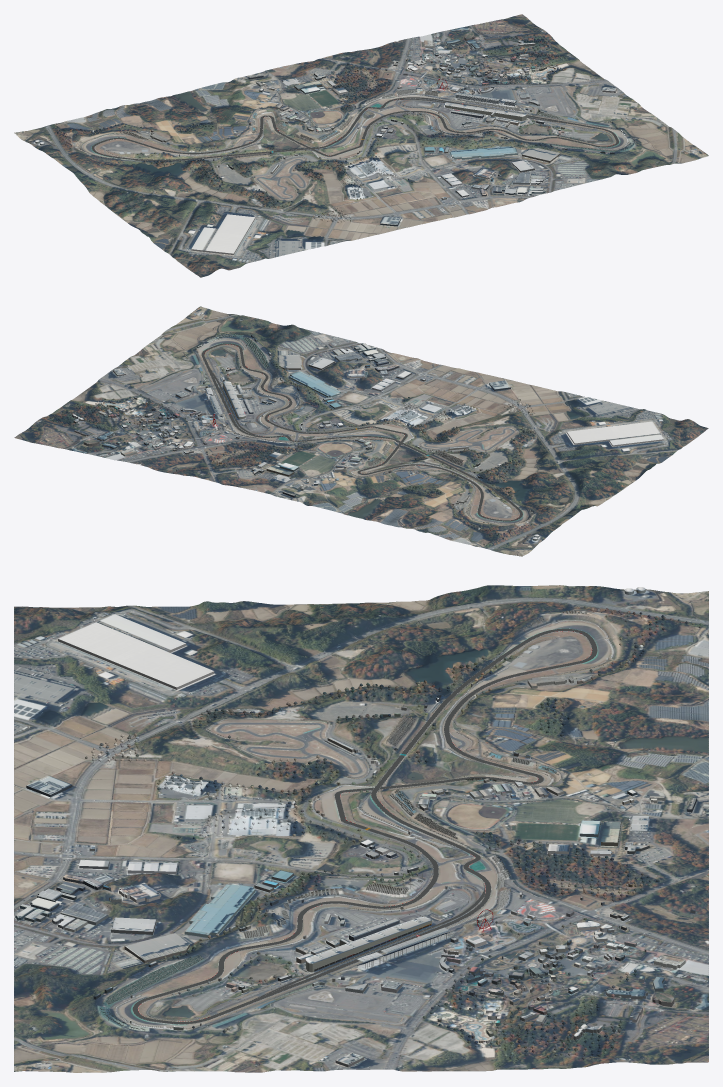
The model's file is suzuka.glb.
The picture shows the model from 3 angles, top to bottom: view 1: azimuth 30°, elevation 25°; view 2: azimuth 150°, elevation 25°; view 3: azimuth 270°, elevation 25°; orthographic projection. The views are drawn at different scales.
Parts seen in each view (by area): view 1: Suzuka_Terrain, Suzuka_Source_Roofs, Suzuka_Vegetation, Suzuka_Buildings, Suzuka_Raceway, Suzuka_Grandstands, Suzuka_Textured_Seat_Rows, Suzuka_Guardrails; view 2: Suzuka_Terrain, Suzuka_Source_Roofs, Suzuka_Vegetation, Suzuka_Buildings, Suzuka_Raceway, Suzuka_Textured_Seat_Rows, Suzuka_Grandstands; view 3: Suzuka_Terrain, Suzuka_Source_Roofs, Suzuka_Vegetation, Suzuka_Buildings, Suzuka_Raceway, Suzuka_Textured_Seat_Rows, Suzuka_Grandstands, Suzuka_Guardrails.
Boxes of the visible parts, x1,y1,x2,y2 form: Suzuka_Terrain: [14, 14, 708, 277]; Suzuka_Source_Roofs: [35, 33, 628, 253]; Suzuka_Vegetation: [53, 34, 625, 222]; Suzuka_Buildings: [35, 35, 628, 254]; Suzuka_Raceway: [91, 97, 619, 160]; Suzuka_Grandstands: [77, 89, 635, 158]; Suzuka_Textured_Seat_Rows: [79, 89, 635, 157]; Suzuka_Guardrails: [83, 89, 627, 200]; Suzuka_Terrain: [14, 306, 708, 556]; Suzuka_Source_Roofs: [72, 335, 663, 538]; Suzuka_Vegetation: [50, 343, 536, 545]; Suzuka_Buildings: [72, 335, 664, 540]; Suzuka_Raceway: [201, 343, 522, 521]; Suzuka_Textured_Seat_Rows: [205, 333, 533, 521]; Suzuka_Grandstands: [204, 333, 533, 523]; Suzuka_Terrain: [14, 585, 708, 1072]; Suzuka_Source_Roofs: [15, 587, 696, 1064]; Suzuka_Vegetation: [85, 605, 702, 1059]; Suzuka_Buildings: [15, 589, 696, 1067]; Suzuka_Raceway: [132, 628, 597, 1024]; Suzuka_Textured_Seat_Rows: [100, 610, 609, 1029]; Suzuka_Grandstands: [100, 610, 613, 1033]; Suzuka_Guardrails: [117, 604, 611, 1037].
Bounding box in the file's own units: 2420 × 90.44 × 1540.
Materials: 16 (10 with a texture image).
